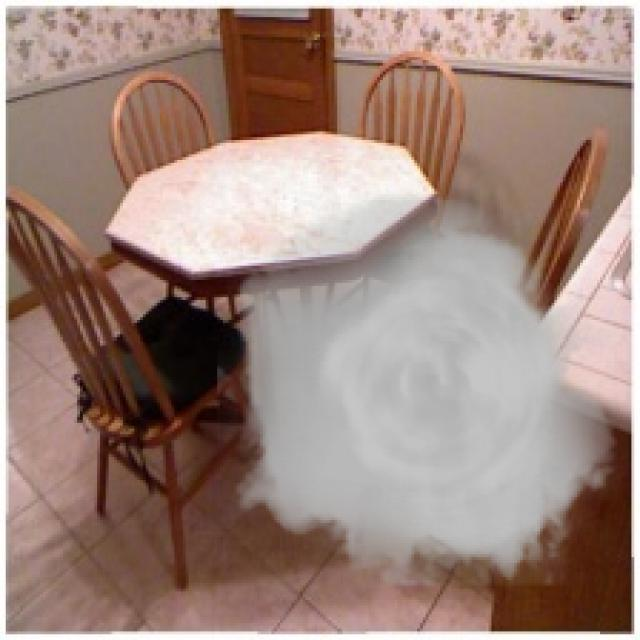Smoke: (217, 191, 629, 586)
